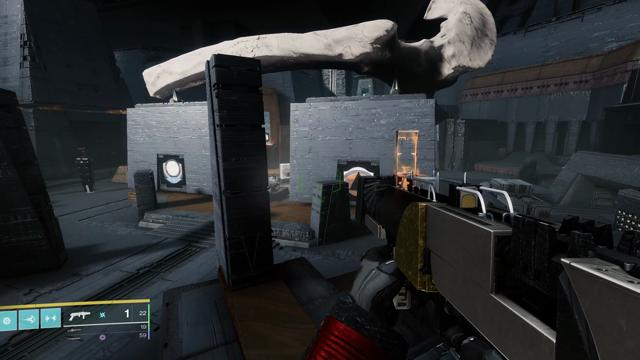pyramid: (343, 167, 374, 196)
traveler: (162, 159, 183, 184)
